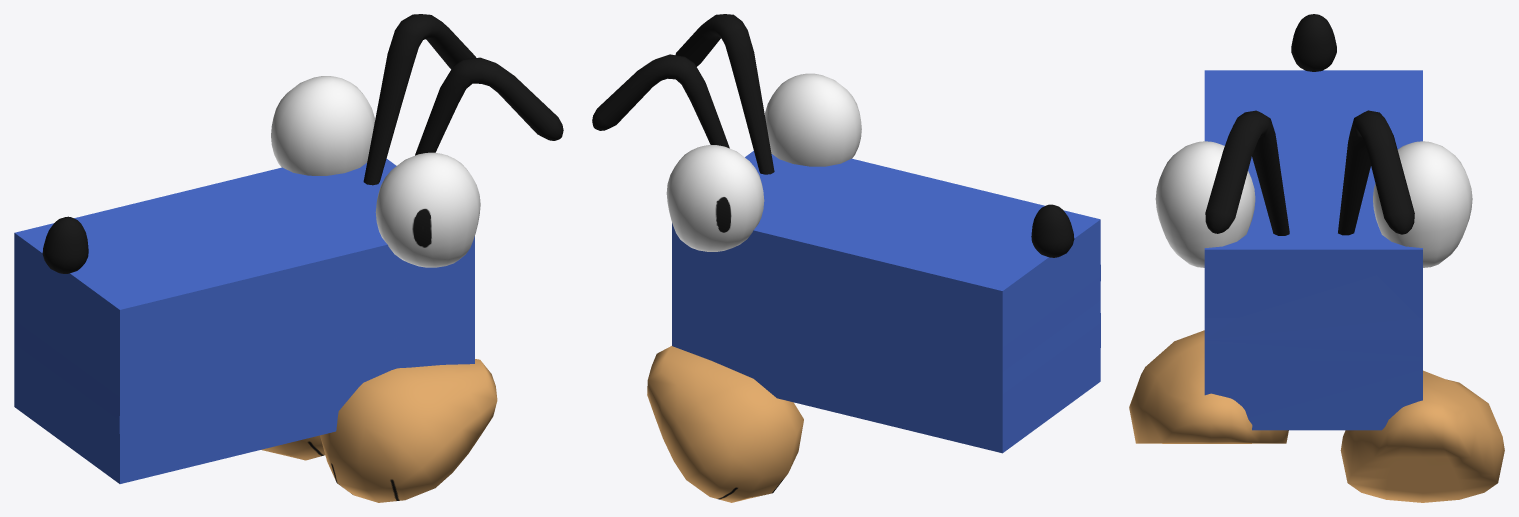
File: BOXDOG_01_1.fbx
3 renders of one model, left to right at view 1: azimuth 30°, elevation 25°; view 2: azimuth 150°, elevation 25°; view 3: azimuth 270°, elevation 25°, orthographic. The views are drawn at different scales.
Parts seen in each view (by area): view 1: uwaago1, sitaago, asi1, asi2, tunagi; view 2: uwaago1, sitaago, asi2, tunagi; view 3: uwaago1, tunagi, asi2, sitaago, asi1.
Boxes of the visible parts, left/top/right/bottom form: uwaago1: left=14, top=14, right=563, bottom=420; sitaago: left=14, top=289, right=474, bottom=483; asi1: left=320, top=359, right=497, bottom=502; asi2: left=261, top=435, right=325, bottom=460; tunagi: left=388, top=312, right=474, bottom=350; uwaago1: left=592, top=14, right=1100, bottom=393; sitaago: left=672, top=272, right=1100, bottom=453; asi2: left=647, top=346, right=803, bottom=502; tunagi: left=672, top=292, right=749, bottom=364; uwaago1: left=1155, top=14, right=1472, bottom=317; tunagi: left=1204, top=247, right=1422, bottom=417; asi2: left=1340, top=370, right=1504, bottom=502; sitaago: left=1204, top=318, right=1422, bottom=430; asi1: left=1129, top=330, right=1288, bottom=443.
Bounding box in the file's own units: 56.65 × 49.33 × 37.76.
